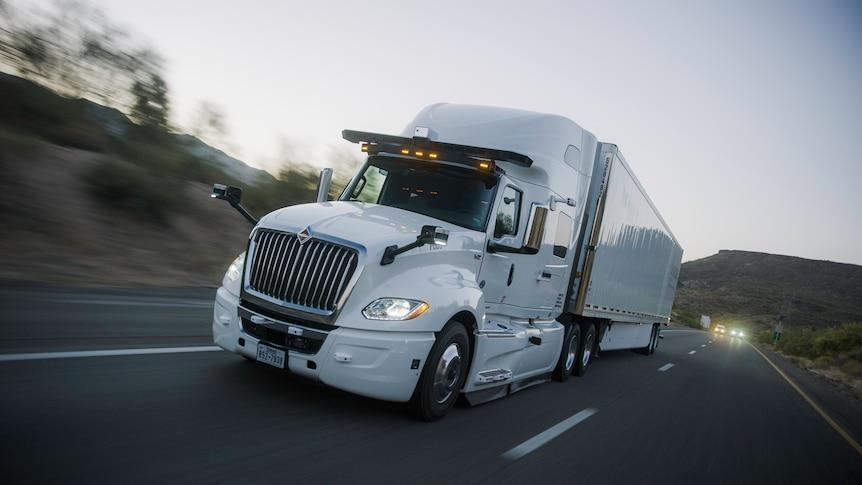truck: (212, 101, 685, 423)
